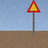sign: (27, 0, 41, 35)
